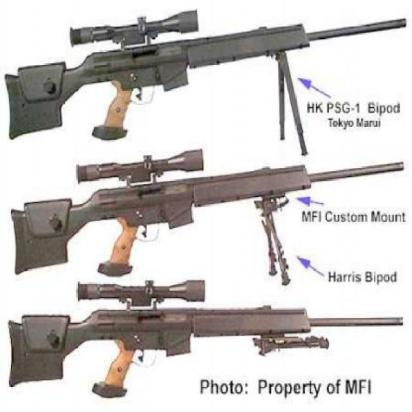Gun: (2, 0, 412, 142), (2, 275, 404, 409), (7, 146, 408, 276)
